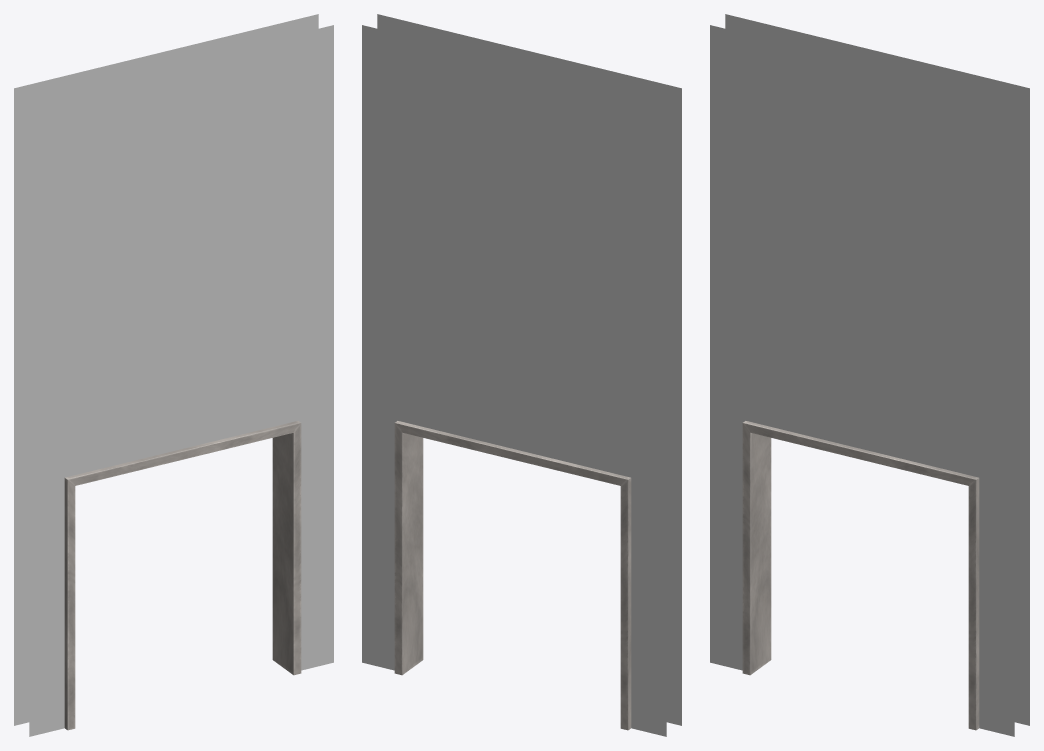
The model's file is Wall_Door_B.fbx.
3 views of the same model, side by side, from view 1: azimuth 30°, elevation 25°; view 2: azimuth 150°, elevation 25°; view 3: azimuth 330°, elevation 25° (orthographic).
Visible parts, largest first — view 1: Wall_Door_B; view 2: Wall_Door_B; view 3: Wall_Door_B.
Boxes of the visible parts, box(x1,y1,x2,y2) form: Wall_Door_B: box(14, 14, 333, 736); Wall_Door_B: box(362, 14, 681, 736); Wall_Door_B: box(710, 14, 1029, 736).
Size of the model in its own units: 3 by 0.3584 by 6.
